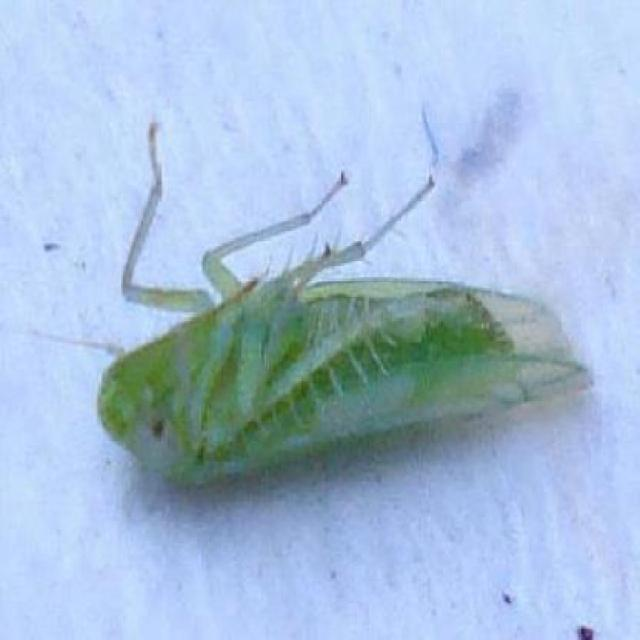green-leafhopper: (94, 114, 592, 488)
